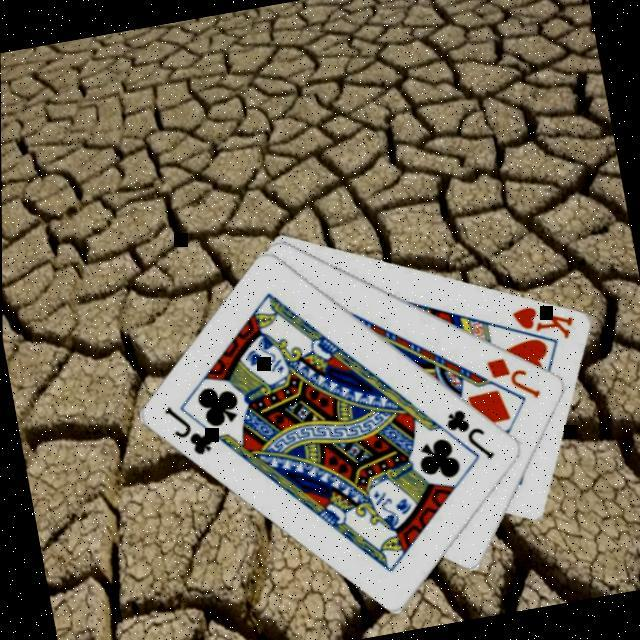JC: (156, 394, 215, 462), (437, 399, 495, 468)
JD: (479, 346, 541, 407)
KH: (505, 292, 577, 348)
